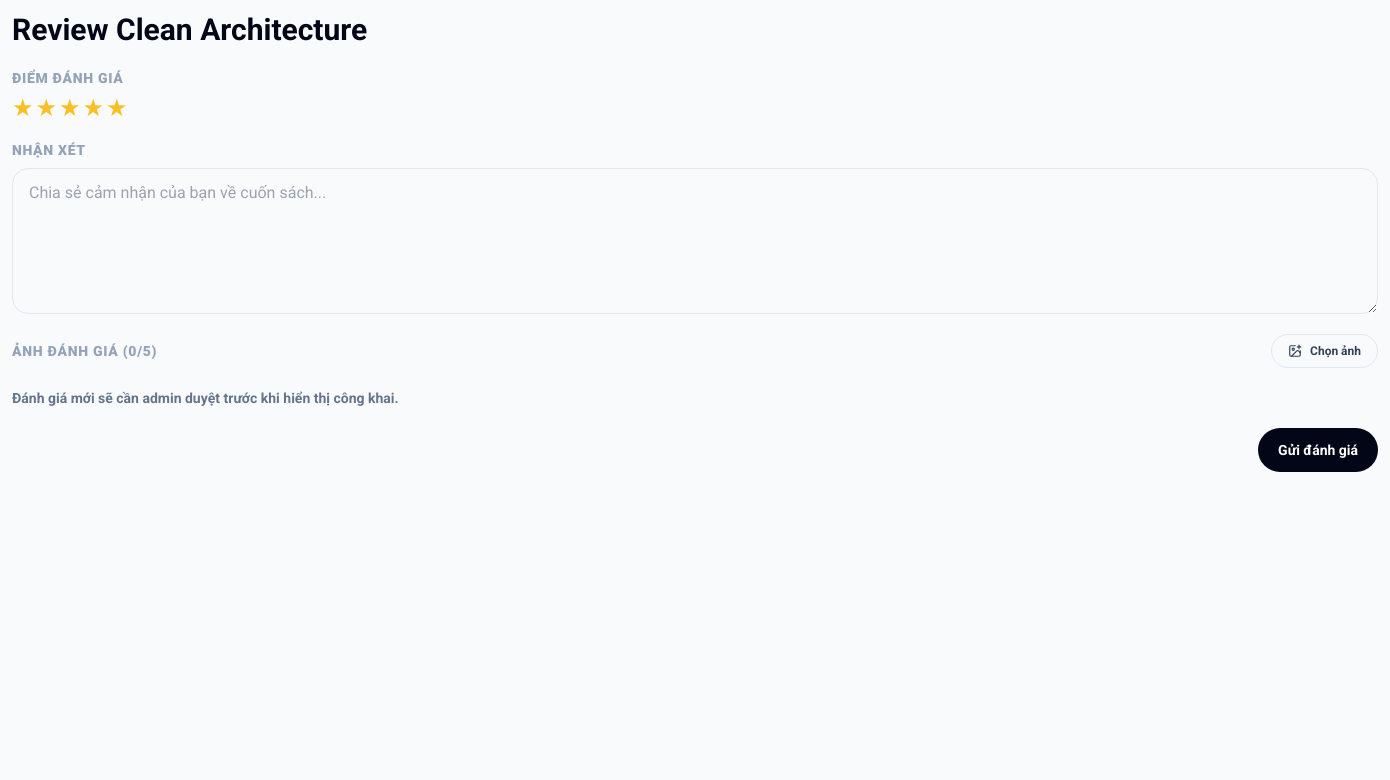
Test: ReviewForm › requires a comment before submit
Click the button "Gửi đánh giá" at (1318, 450), box [1258, 428, 1378, 472]
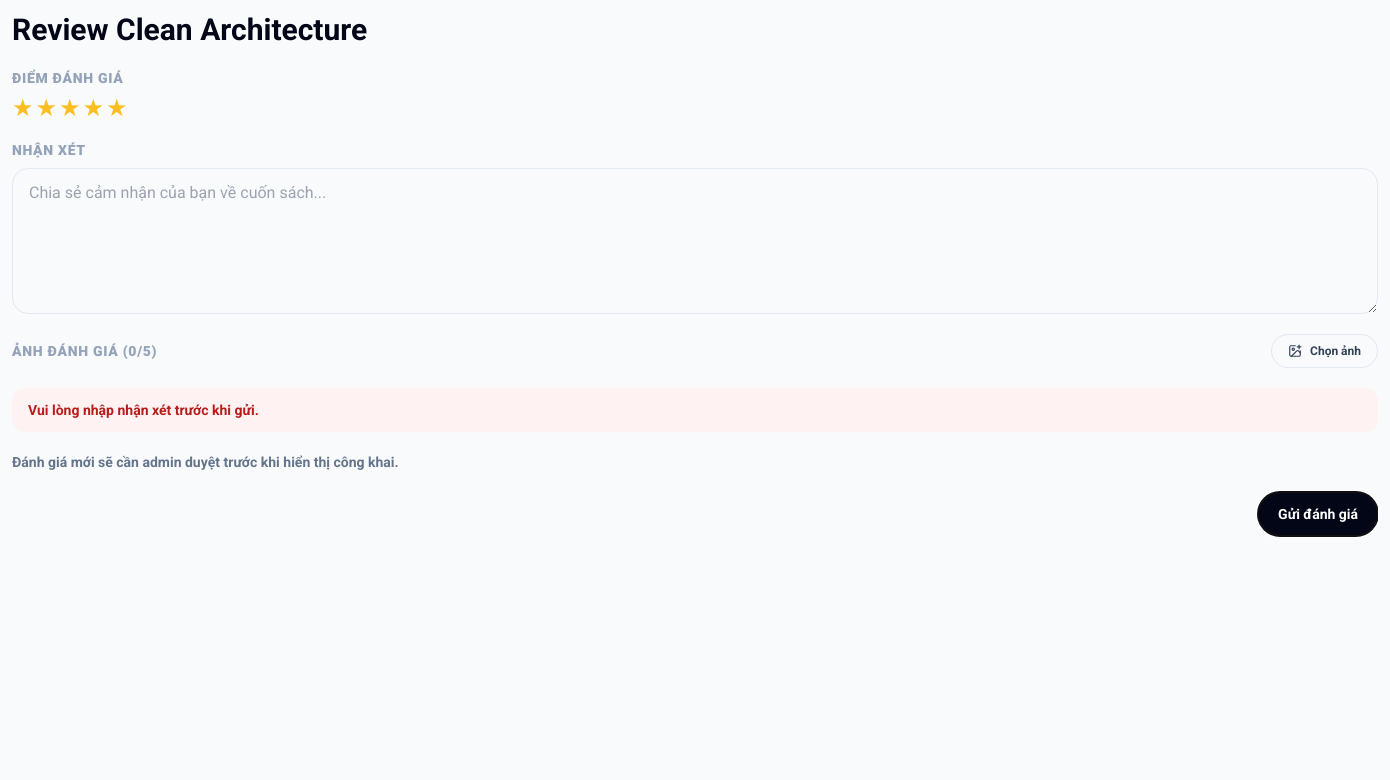
Check: the text "Vui lòng nhập nhận xét trước khi gửi." is shown, box [12, 388, 1378, 432]
